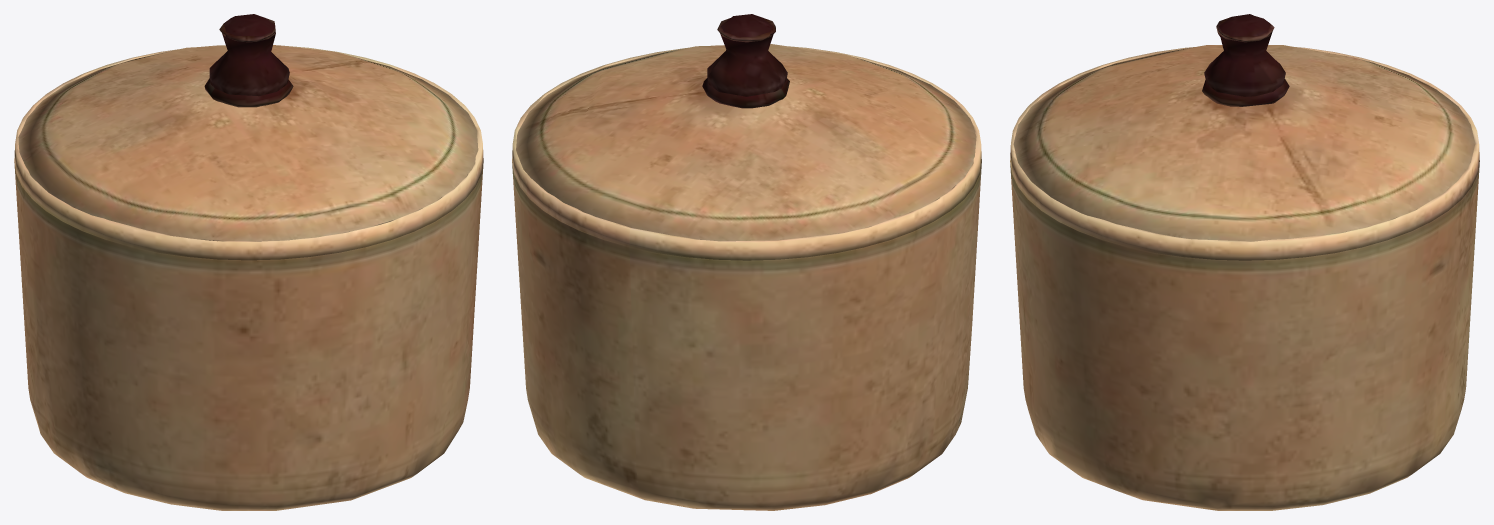
File: brass_pot_01.glb
The picture shows the model from 3 angles, left to right: view 1: azimuth 30°, elevation 25°; view 2: azimuth 150°, elevation 25°; view 3: azimuth 270°, elevation 25°; orthographic projection.
Parts seen in each view (by area): view 1: brass_pot_01; view 2: brass_pot_01; view 3: brass_pot_01.
Part boxes in pixels (left/top/right/bottom): brass_pot_01: left=14, top=14, right=483, bottom=510; brass_pot_01: left=512, top=14, right=981, bottom=510; brass_pot_01: left=1010, top=14, right=1479, bottom=510.
Bounding box in the file's own units: 0.2993 × 0.2909 × 0.2992.
Materials: 1 (1 with a texture image).
